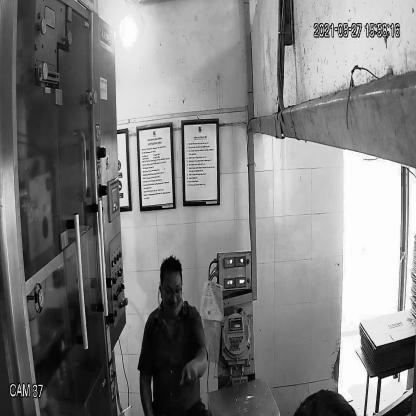goggles: (156, 281, 186, 301)
